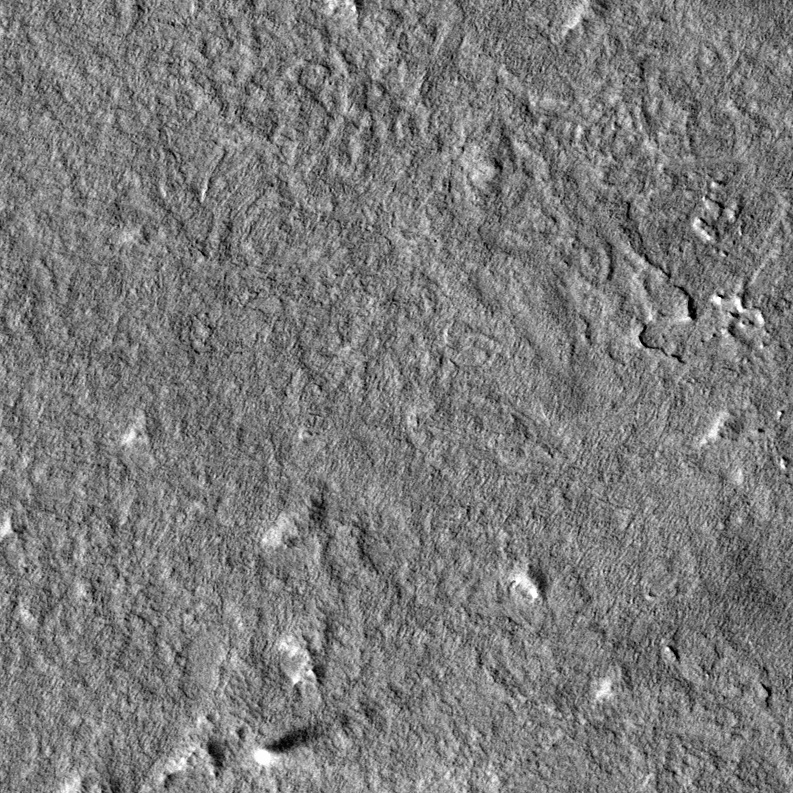dust_devil: (251, 711, 351, 768)
